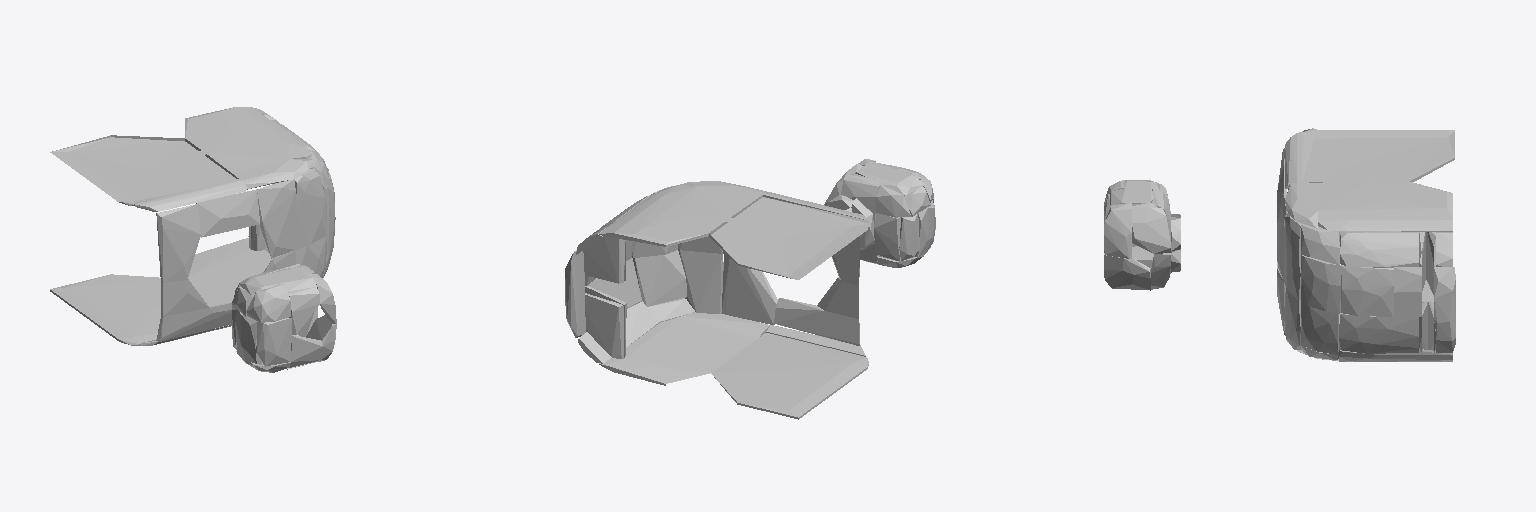
File: processed_fixed_body_vhacd.obj
The picture shows the model from 3 angles: view 1: azimuth 30°, elevation 25°; view 2: azimuth 150°, elevation 25°; view 3: azimuth 270°, elevation 25°; orthographic projection.
Visible parts, largest first — view 1: fixed_body_vhacd; view 2: fixed_body_vhacd; view 3: fixed_body_vhacd.
Boxes of the visible parts, <box> form: fixed_body_vhacd: <box>50,107,336,372</box>; fixed_body_vhacd: <box>565,159,935,419</box>; fixed_body_vhacd: <box>1104,128,1455,361</box>.
Bounding box in the file's own units: 0.7712 × 0.4457 × 0.9956.